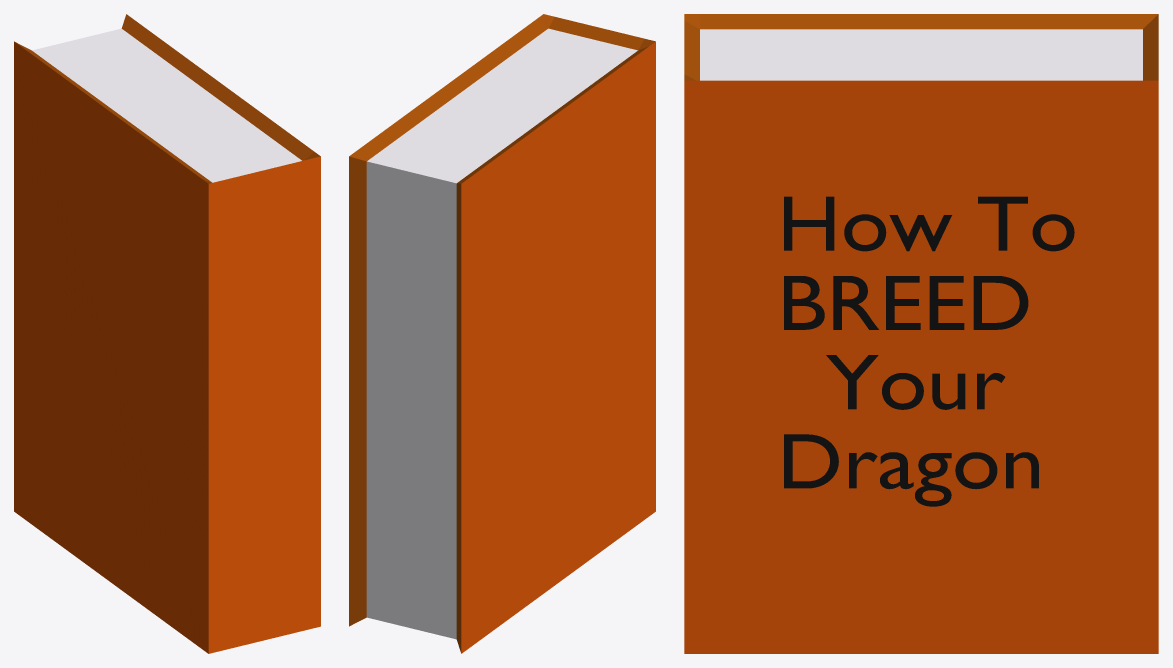
Rendered from Book.fbx.
3 views of the same model, side by side, from view 1: azimuth 30°, elevation 25°; view 2: azimuth 150°, elevation 25°; view 3: azimuth 270°, elevation 25° (orthographic). The views are drawn at different scales.
Visible parts, largest first — view 1: Cube; view 2: Cube; view 3: Cube.
Boxes of the visible parts, x1,y1,x2,y2 form: Cube: (14, 14, 320, 653); Cube: (349, 14, 655, 653); Cube: (684, 14, 1158, 653).
Bounding box in the file's own units: 5.12 × 20 × 15.
